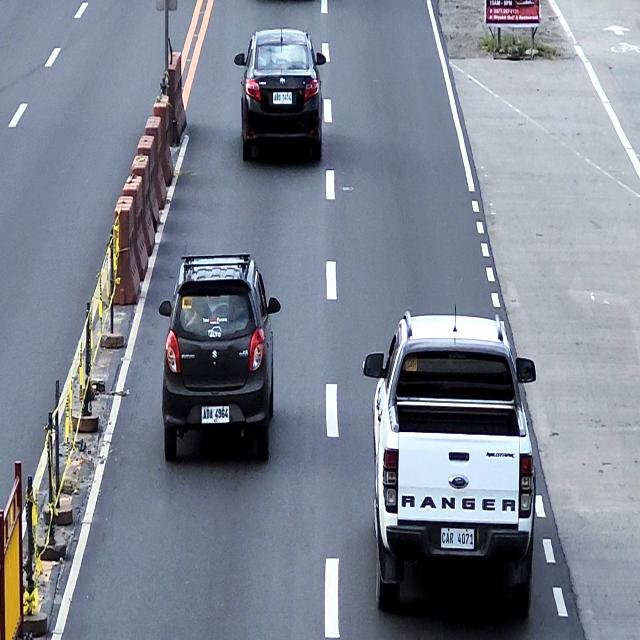Car: (362, 308, 537, 618), (158, 253, 281, 462), (234, 27, 326, 162)
License-Plate: (441, 528, 475, 549), (200, 406, 230, 423), (272, 91, 293, 106)
